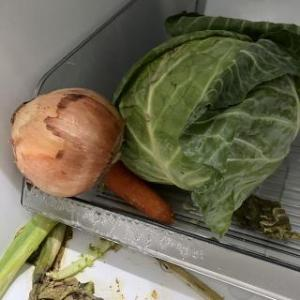cabbage: (110, 9, 300, 237)
carrot: (106, 160, 176, 226)
onion: (12, 87, 124, 199)
